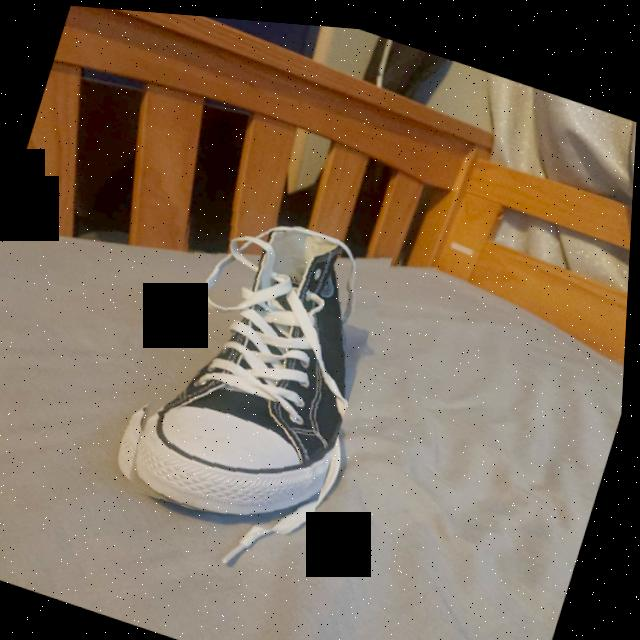shoe: (109, 183, 396, 547)
